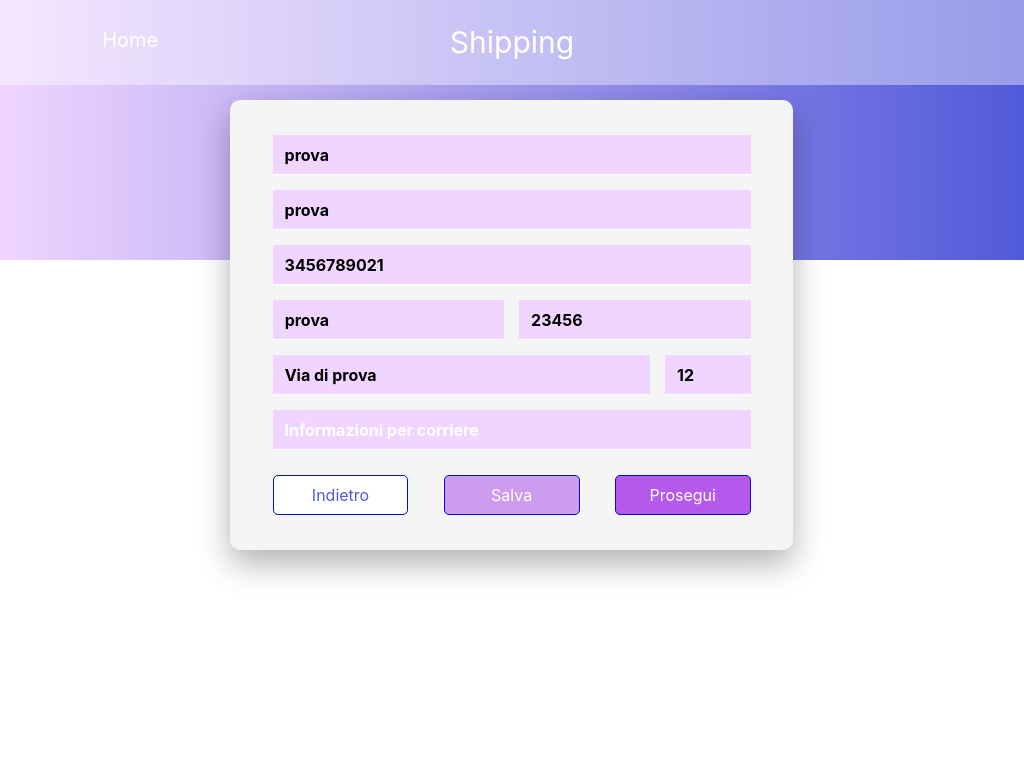
Scenario: Shipping › Sign up with shipping saved
The width and height of the screenshot is (1024, 768).
Expected: the field with id "name" holds "prova", [273,135,751,175]
Expected: the field with id "surname" holds "prova", [273,190,751,230]
Click the button with id "submit". click: point(683, 495)
box: [615,475,751,515]
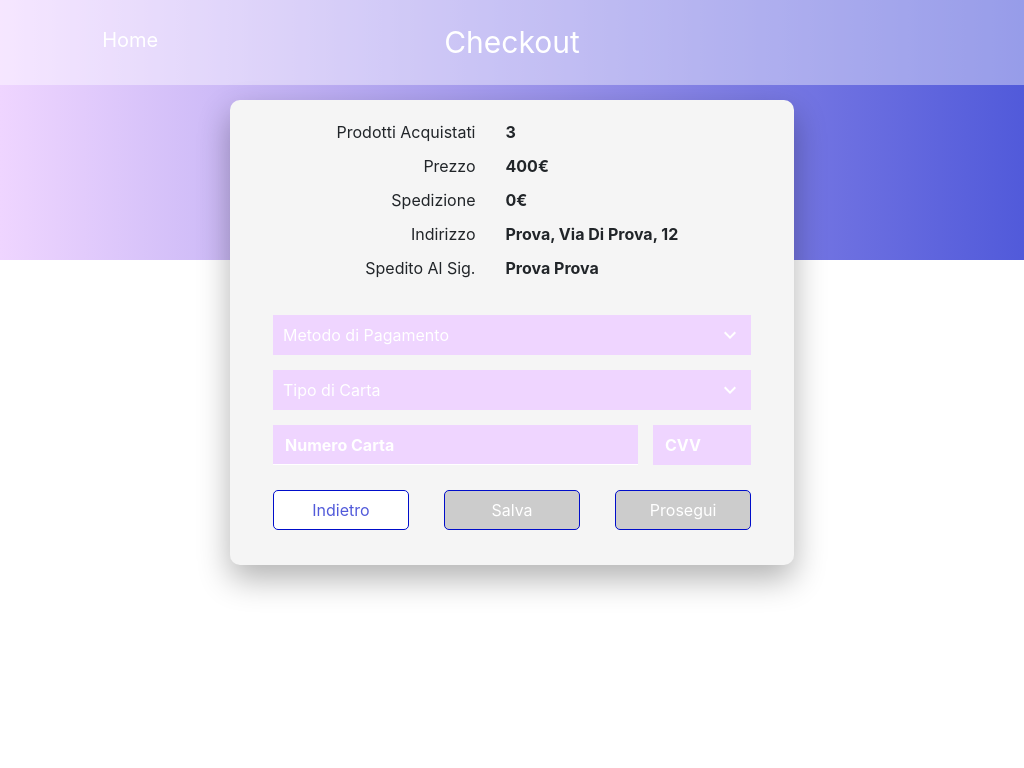
Now the text with class "title" reads "Checkout", box [0,0,1023,85]
